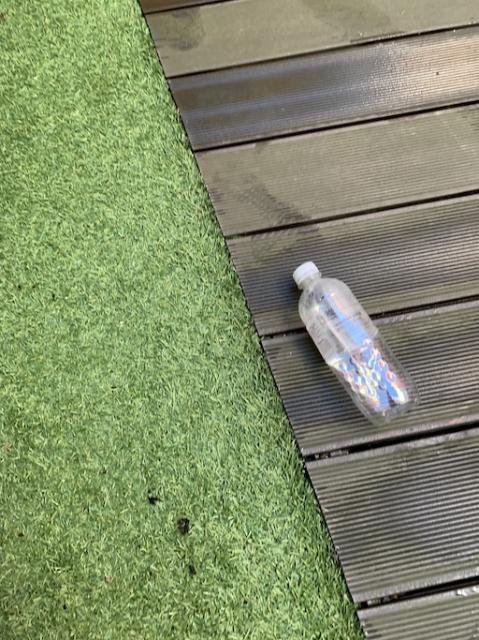plastic: (292, 260, 417, 424)
